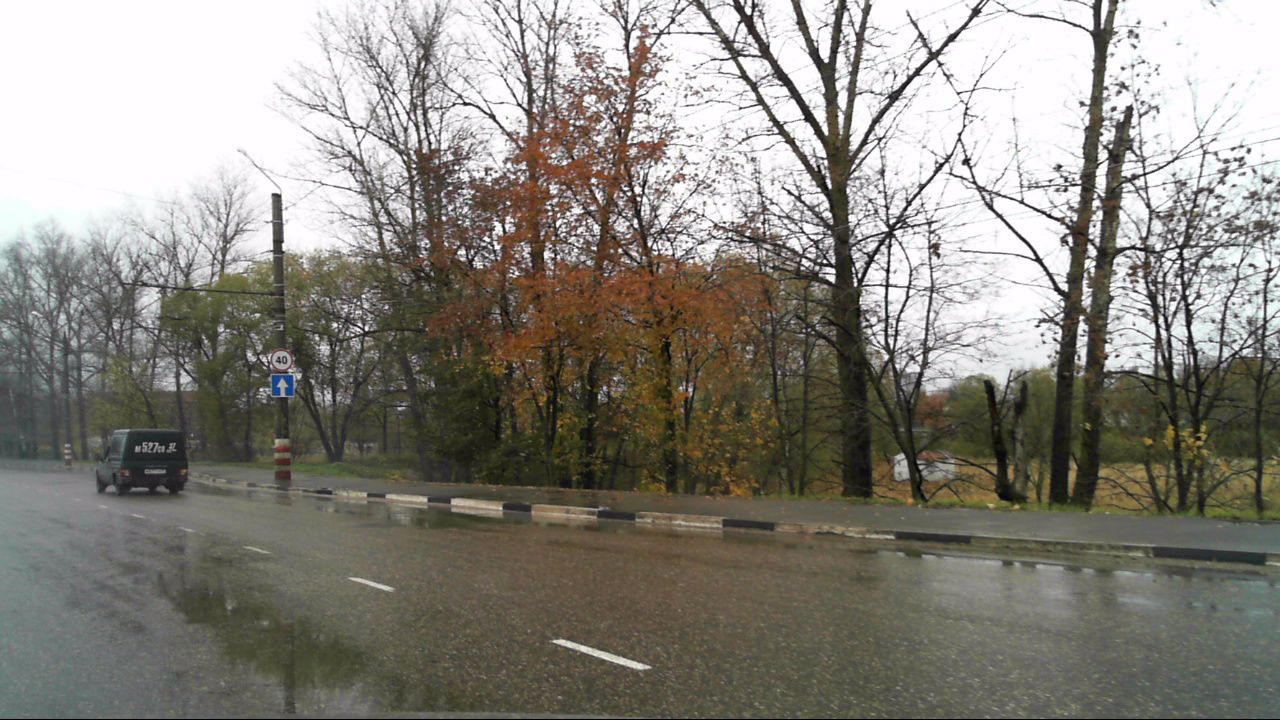speed_warning_40: (272, 349, 291, 370)
